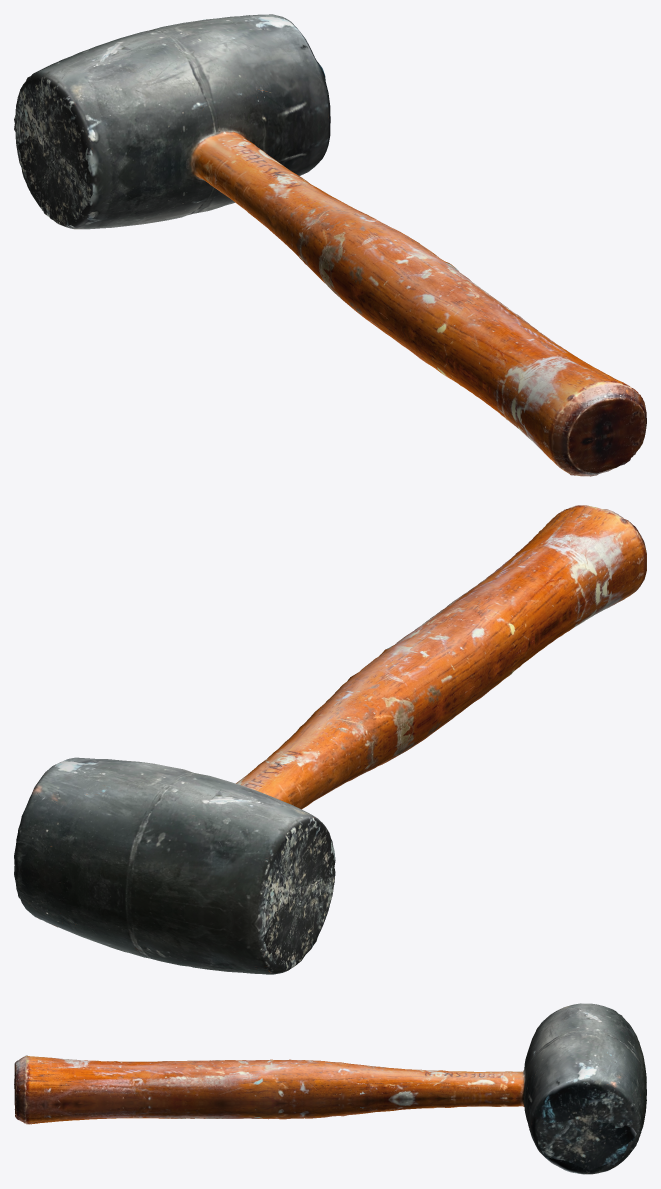
Rendered from mallet.glb.
3 renders of one model, top to bottom at view 1: azimuth 30°, elevation 25°; view 2: azimuth 150°, elevation 25°; view 3: azimuth 270°, elevation 25°, orthographic. The views are drawn at different scales.
Visible parts, largest first — view 1: Object_2; view 2: Object_2; view 3: Object_2.
Part boxes in pixels (left/top/right/bottom): Object_2: left=14, top=14, right=646, bottom=476; Object_2: left=14, top=505, right=646, bottom=974; Object_2: left=14, top=1003, right=646, bottom=1174.
Bounding box in the file's own units: 0.5922 × 0.3971 × 2.
1 material, 1 textured.
